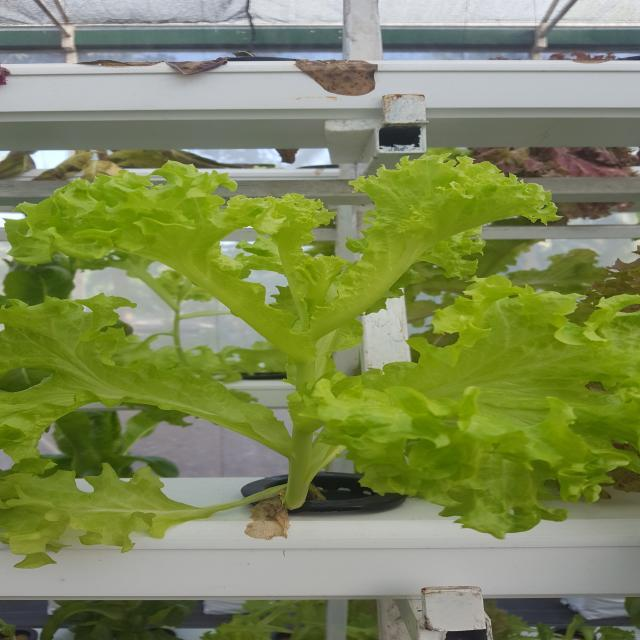Lettuce-Not-Ready-to-Harvest: (0, 150, 640, 557)
